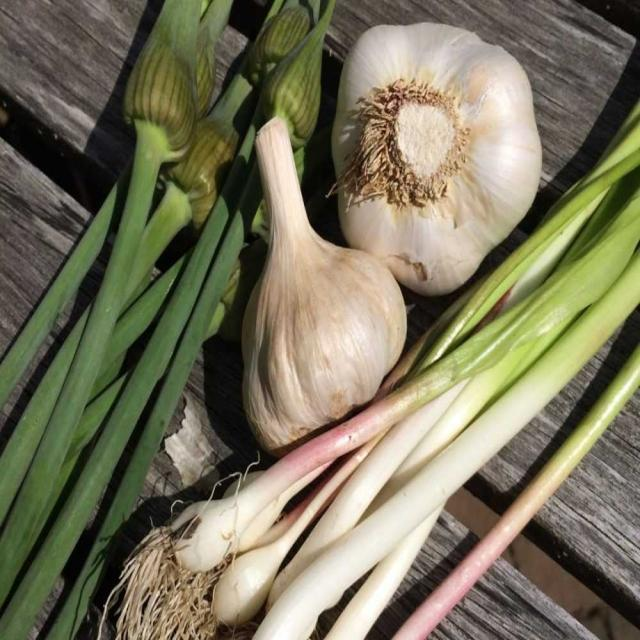Garlic: (314, 0, 554, 310), (216, 239, 439, 451)
